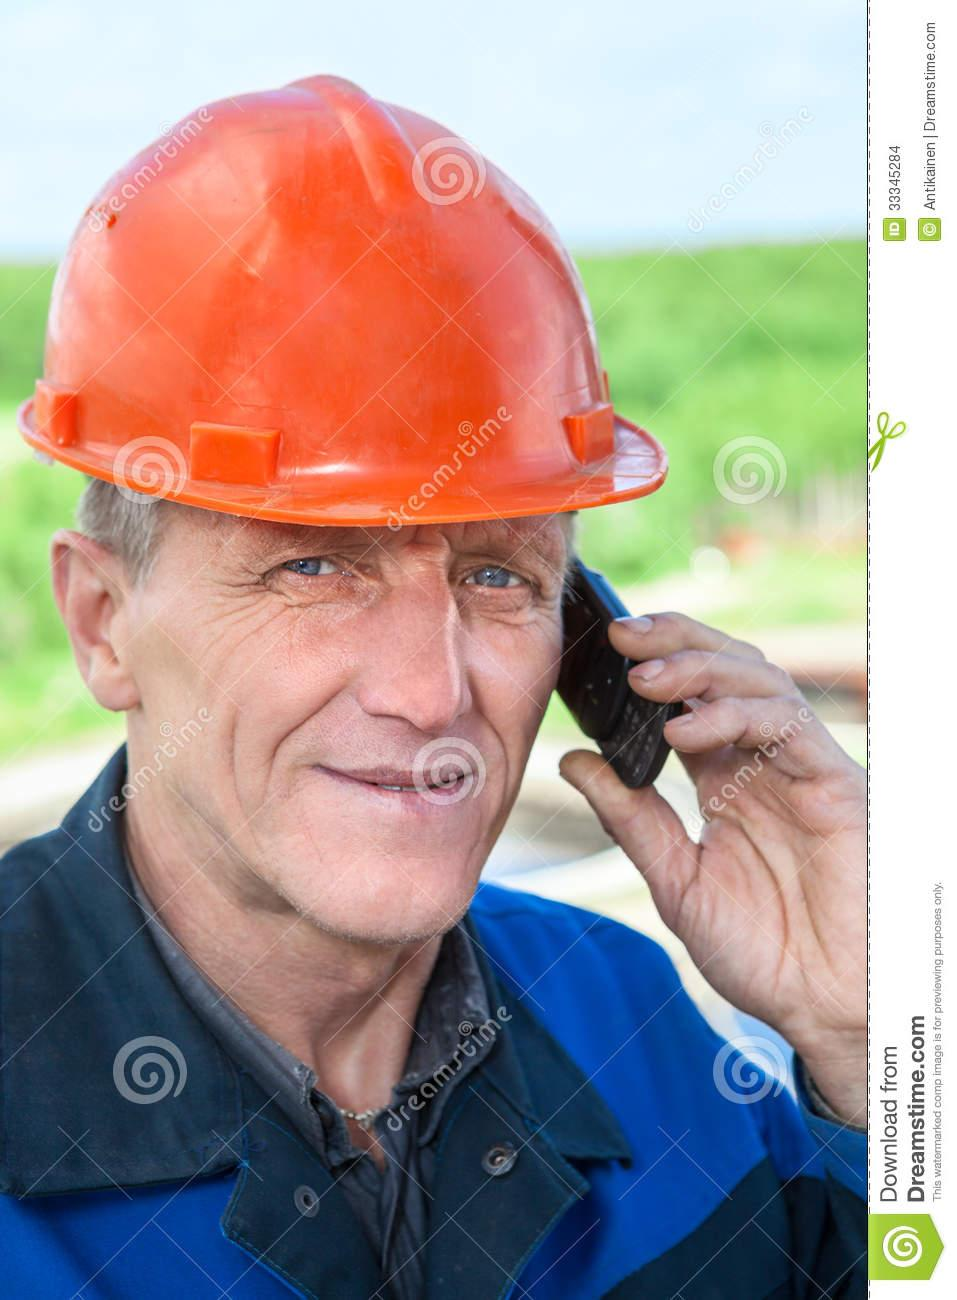helmet: (15, 69, 666, 528)
